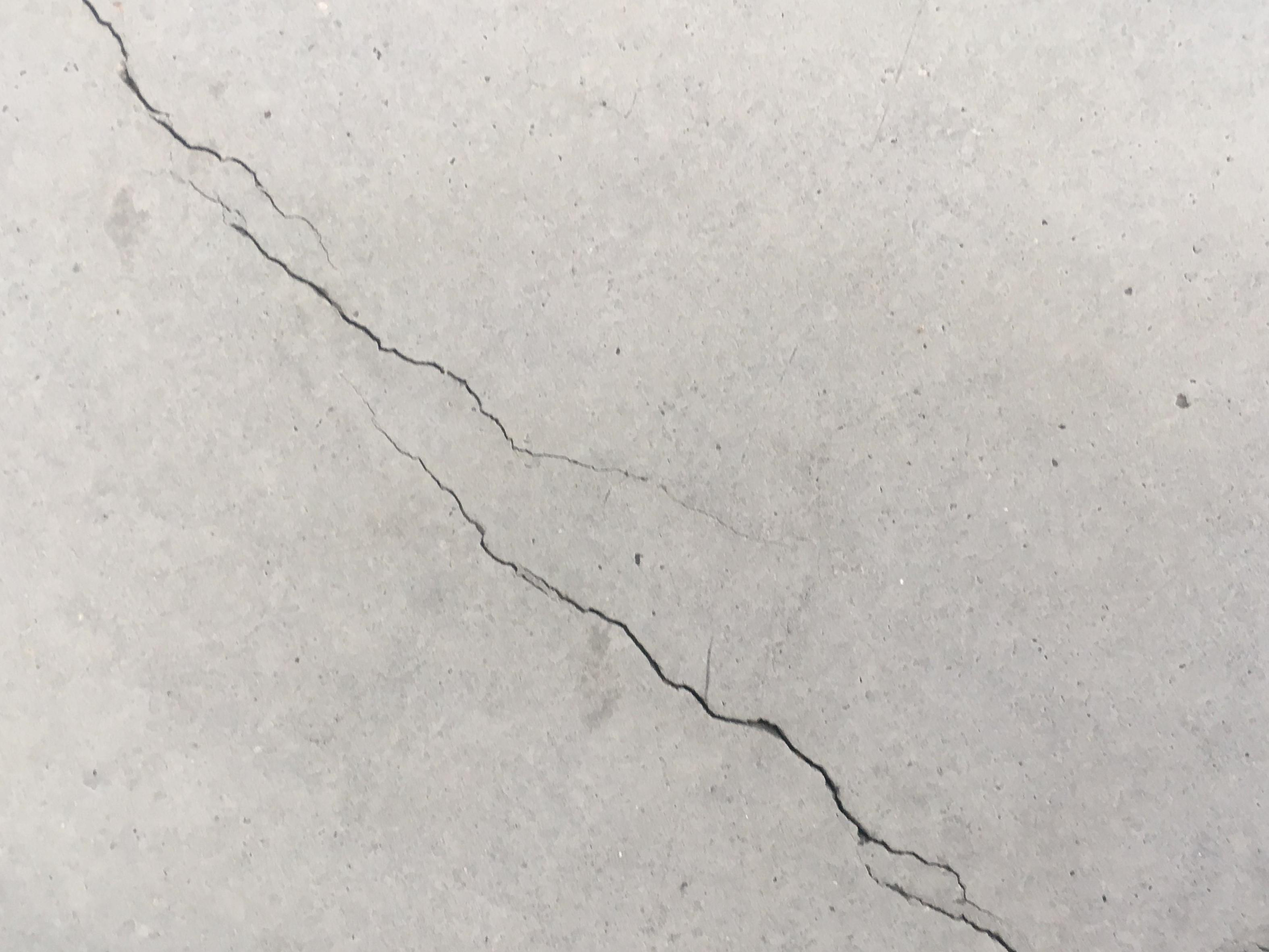Diagonal Crack: (81, 2, 1018, 948)
